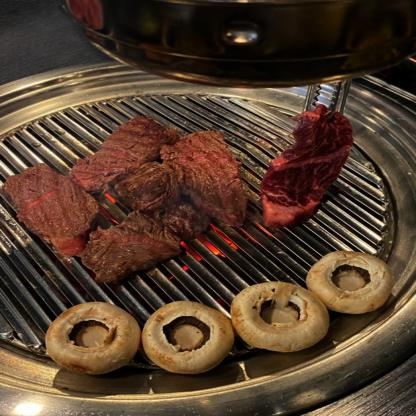Carne: (76, 202, 202, 281), (61, 111, 176, 194), (5, 160, 101, 250), (162, 127, 238, 229)
